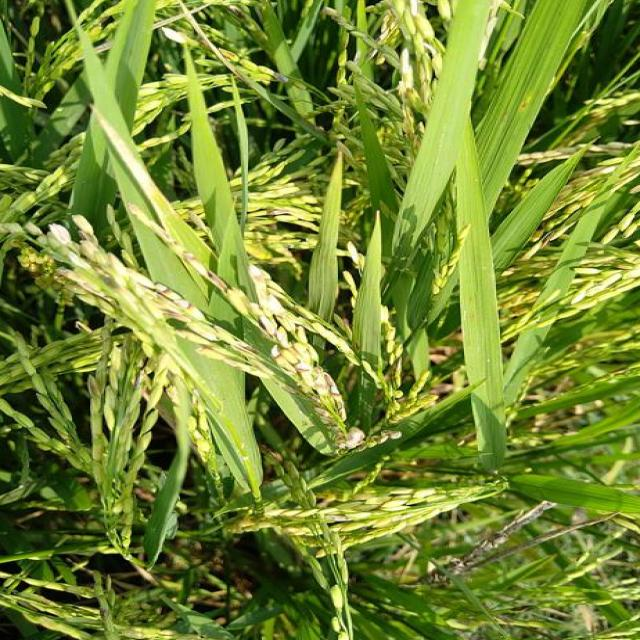Panicle Blight: (126, 202, 345, 423), (71, 215, 256, 354), (249, 265, 294, 318), (198, 27, 240, 63), (392, 352, 405, 388), (432, 381, 452, 398)
